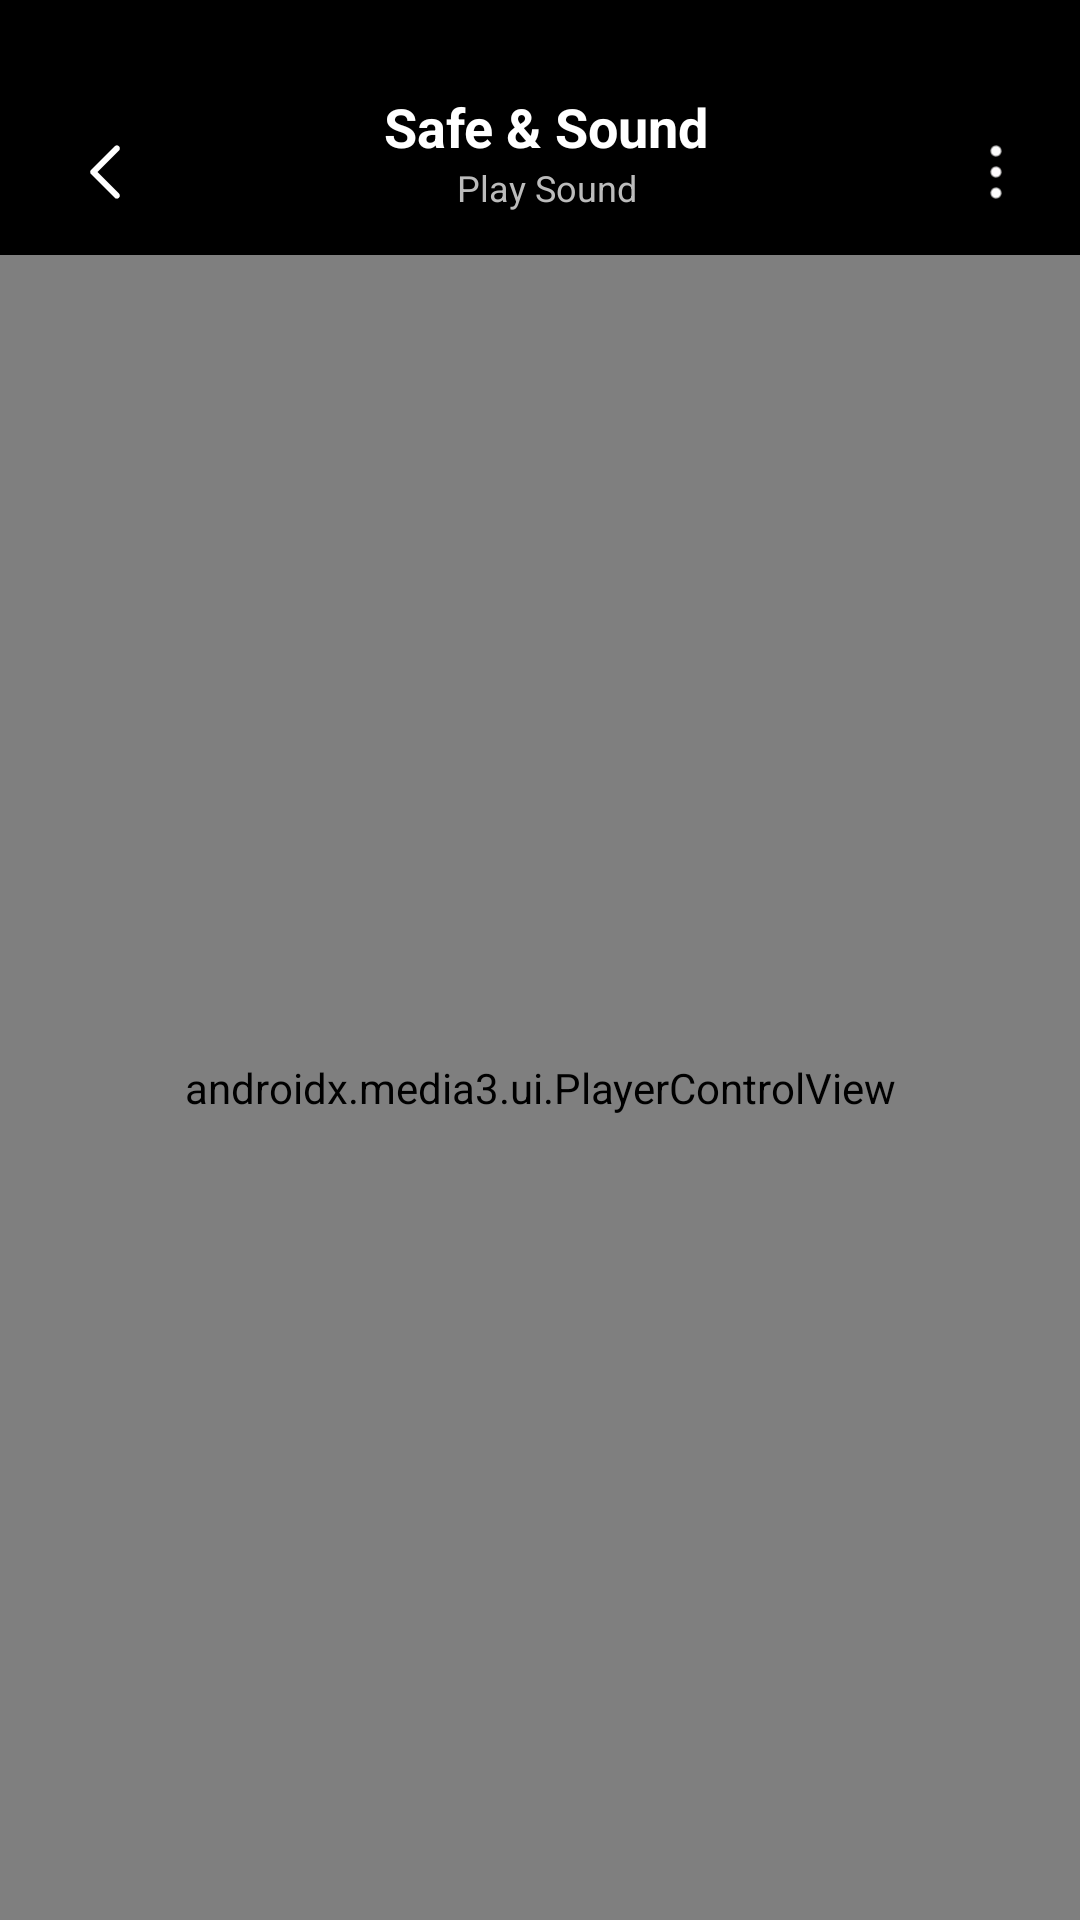

Point at icon controls on the screen. Image size 1080w x 1920h, points as [x,y].
back: [105,172]
menu: [996,172]
